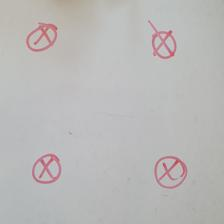inert-dna-spacer: (154, 154, 187, 190), (147, 19, 177, 58), (25, 23, 58, 52), (31, 154, 64, 183)
